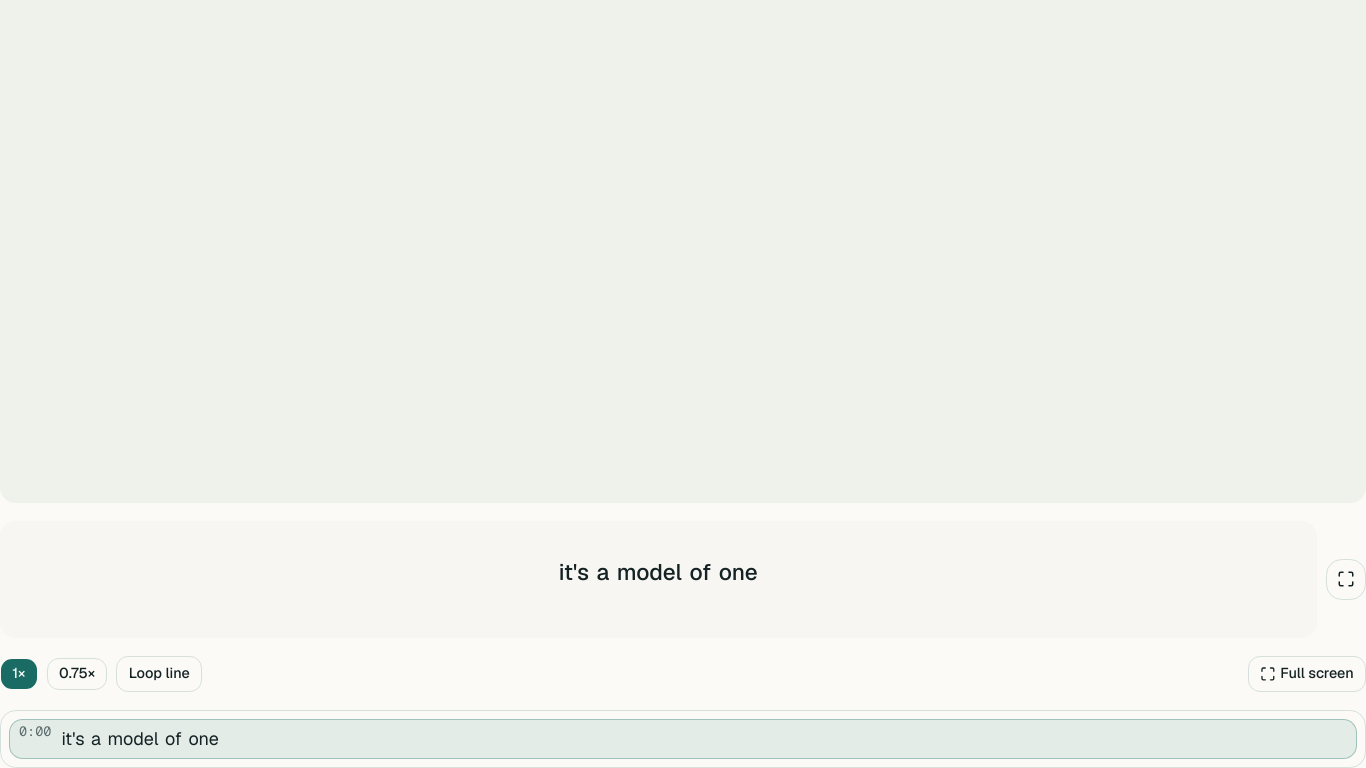
B2 — Focus: the caption in a strip under the video, nothing on the picture › a word in the strip opens the sheet (a tap)
(page scrolled)
Click the button with test id "focus-enter": (1307, 674) [1248,656,1365,692]
(page scrolled)
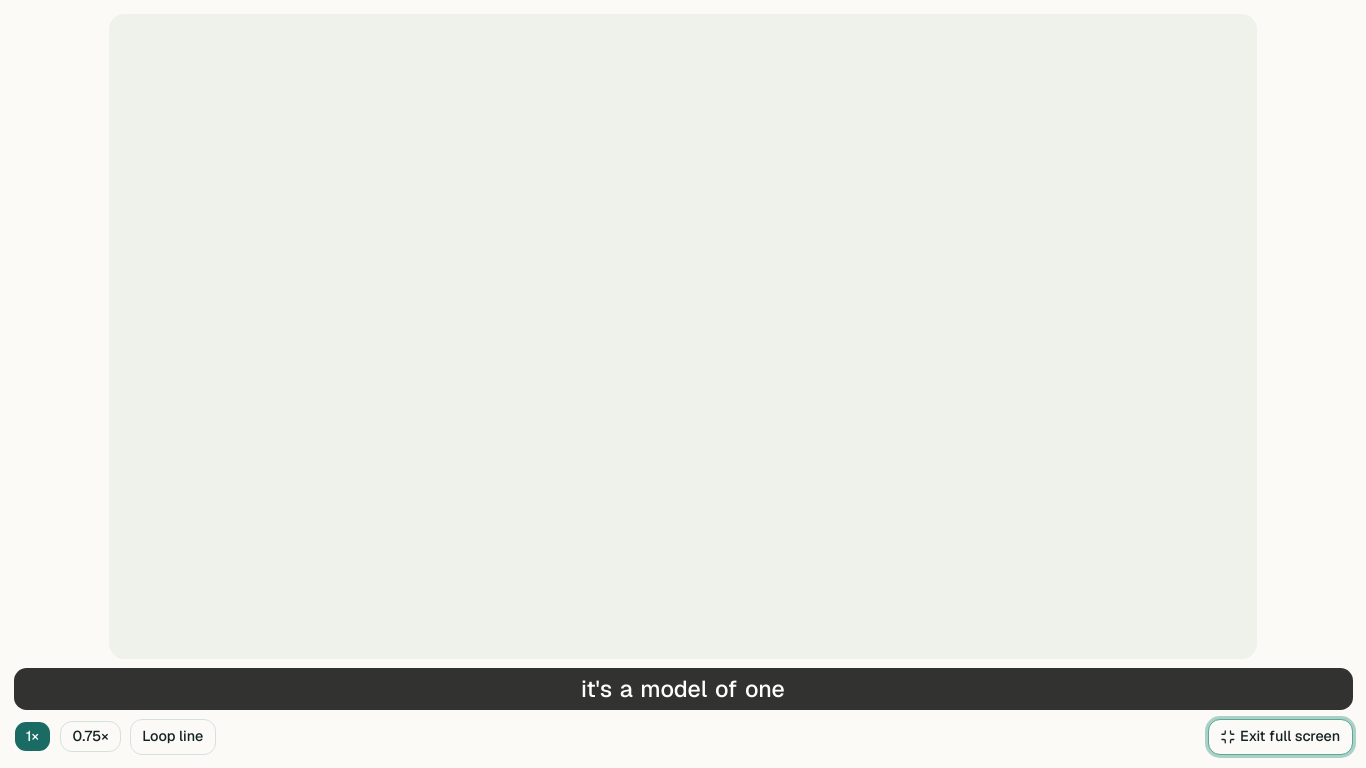
Click the button "model": (674, 689) [639,673,708,705]
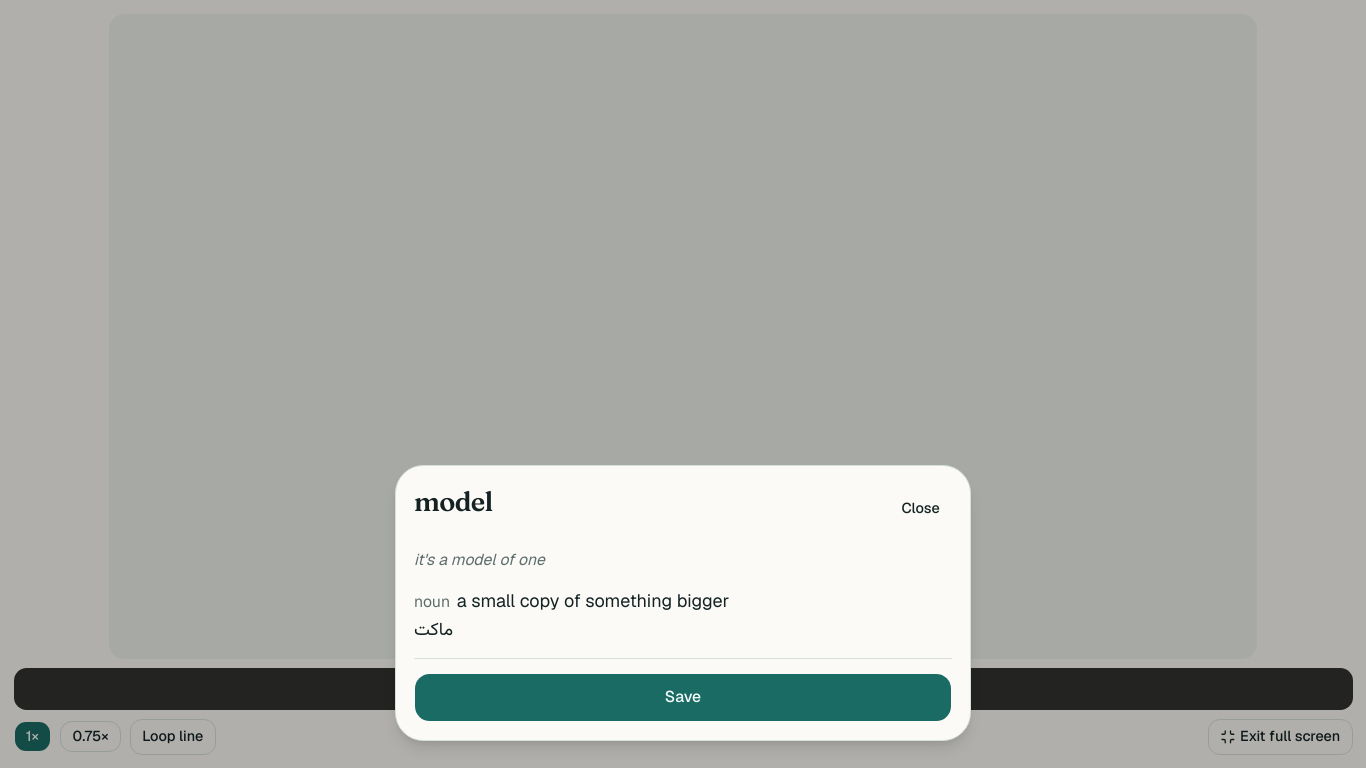
Expected: the dialog with test id "word-sheet" is shown, [395,465,971,741]
